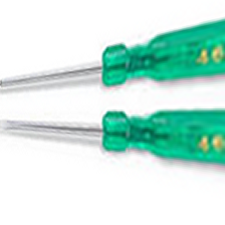Screwdriver: (2, 100, 225, 173), (1, 22, 225, 91)
